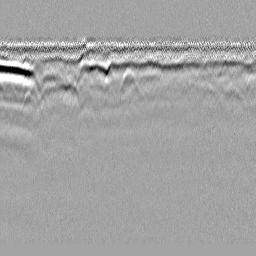cavity: (117, 67, 140, 95)
